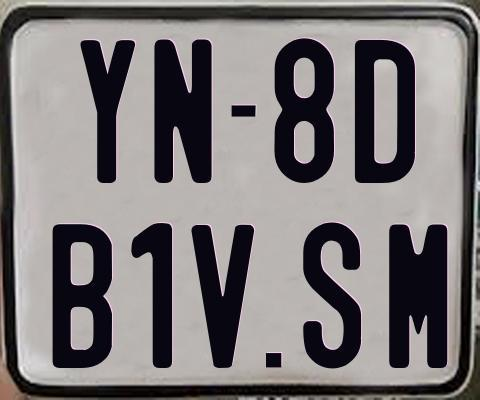1: (130, 220, 171, 371)
8: (272, 36, 334, 181)
B: (52, 223, 115, 373)
D: (355, 37, 420, 184)
M: (389, 221, 448, 368)
N: (151, 36, 210, 183)
S: (301, 220, 359, 370)
V: (191, 222, 254, 370)
Y: (80, 40, 139, 189)
